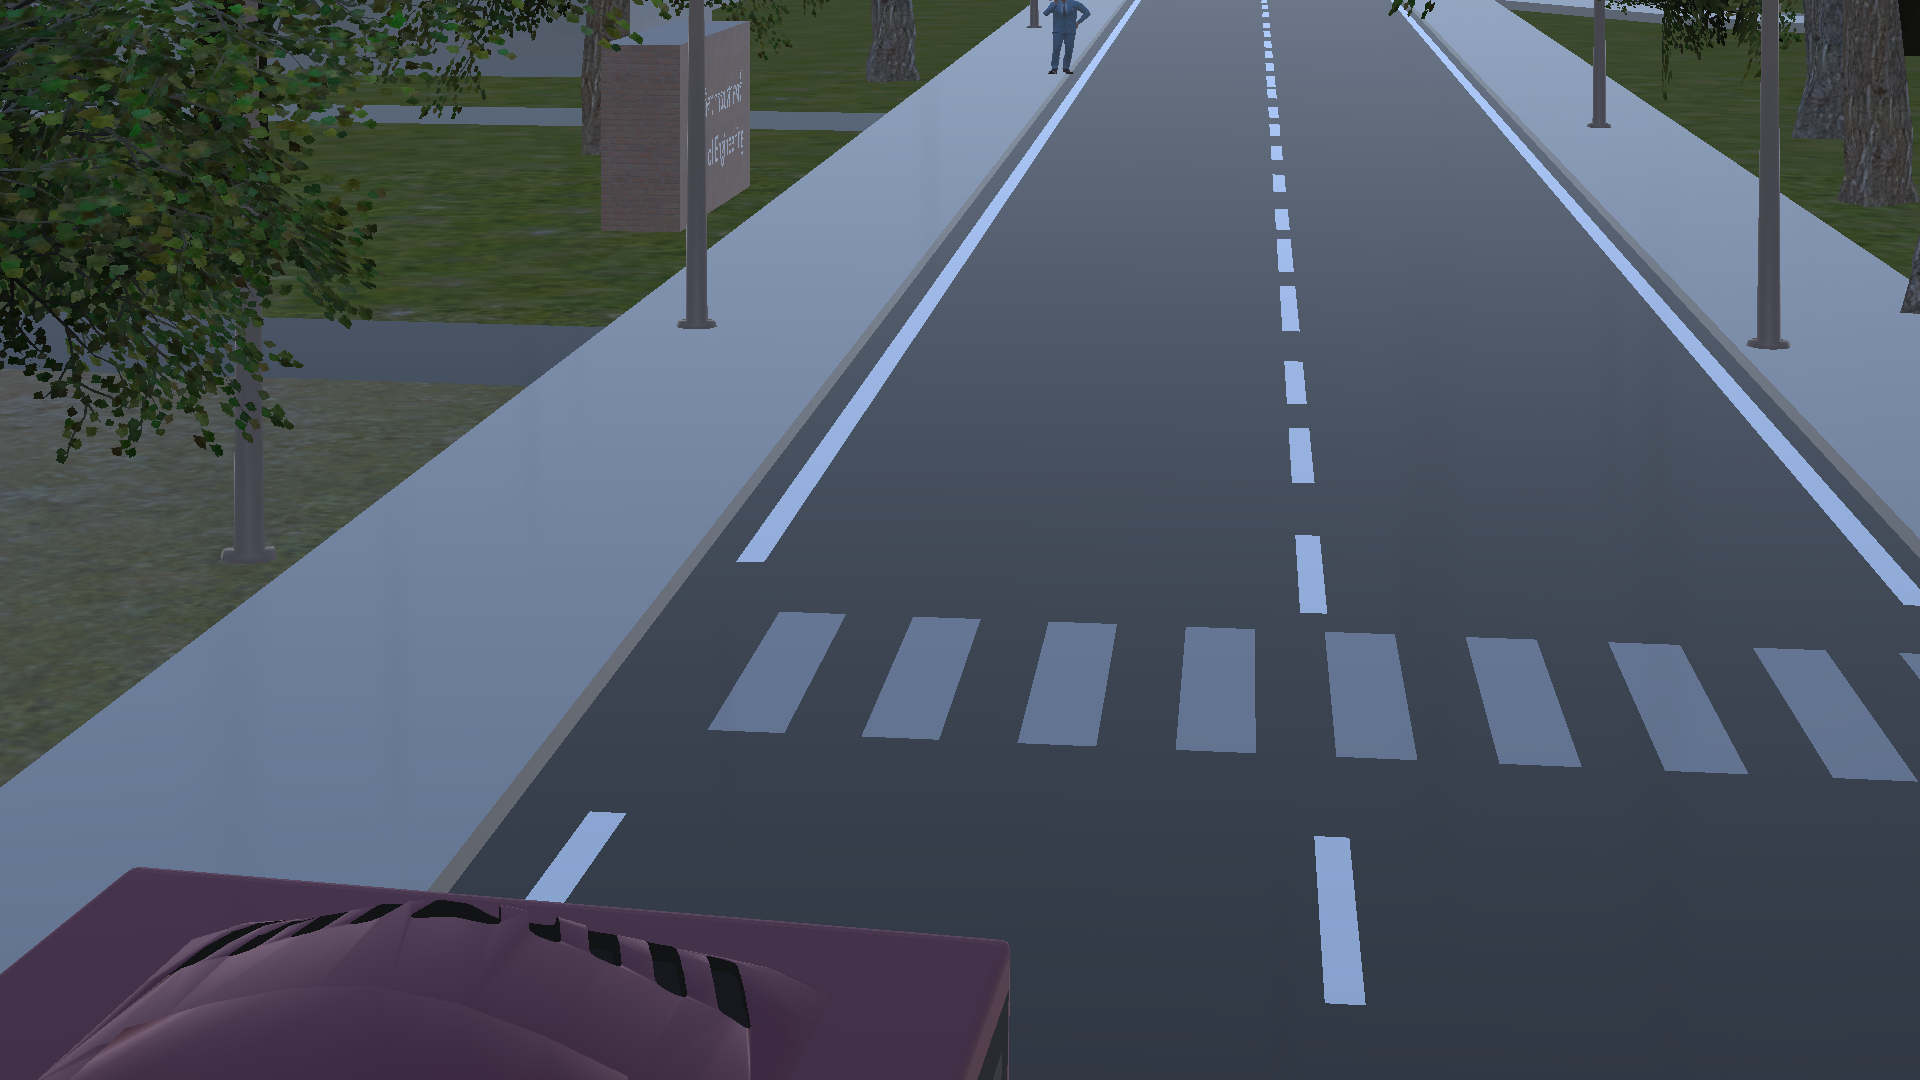pedestrian: (1044, 5, 1097, 97)
